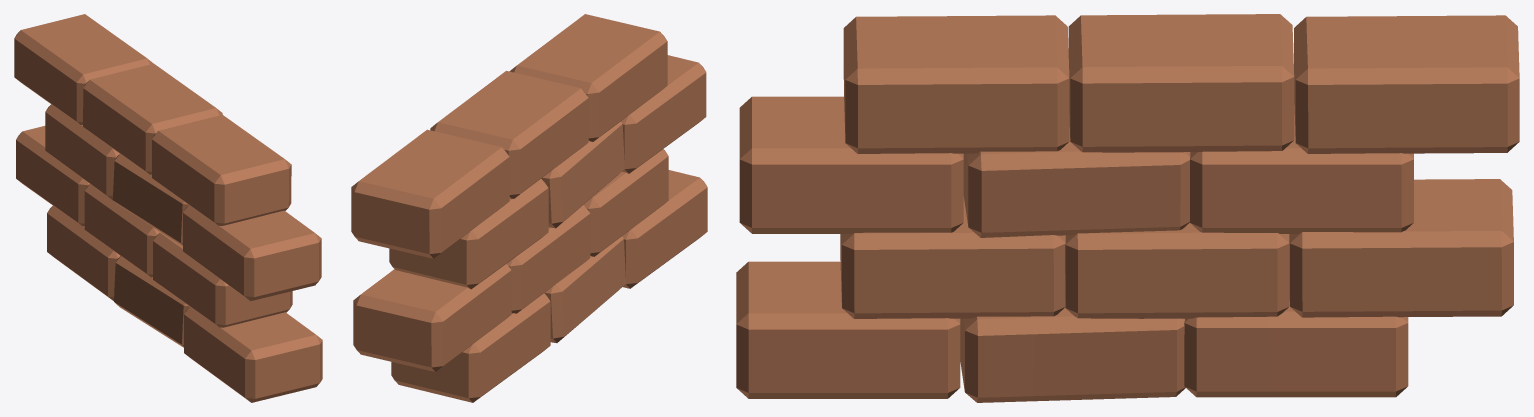
File: StoneWall.fbx
3 renders of one model, left to right at view 1: azimuth 30°, elevation 25°; view 2: azimuth 150°, elevation 25°; view 3: azimuth 270°, elevation 25°, orthographic. The views are drawn at different scales.
Parts seen in each view (by area): view 1: Stone Wall; view 2: Stone Wall; view 3: Stone Wall.
Part boxes in pixels (x1,y1,x2,y2): Stone Wall: [14, 14, 322, 402]; Stone Wall: [351, 14, 707, 402]; Stone Wall: [736, 14, 1519, 402].
Size of the model in its own units: 66.27 by 150 by 318.
1 material, 1 textured.
